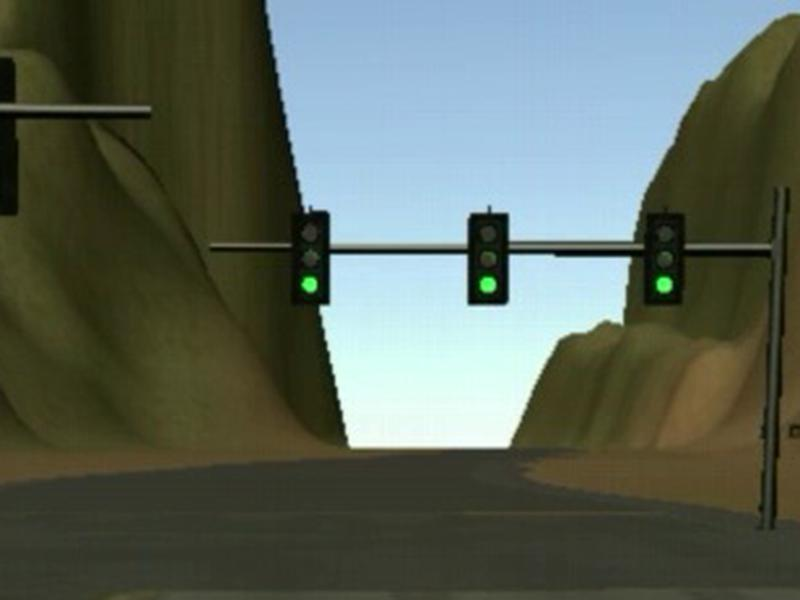Green: (644, 213, 686, 304), (467, 213, 508, 305), (292, 212, 327, 304)
